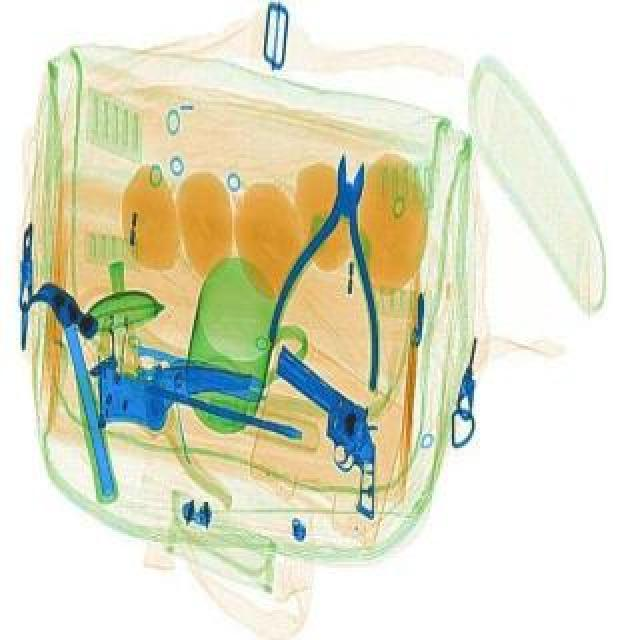gun: (224, 346, 428, 516)
wrench: (260, 144, 408, 388)
